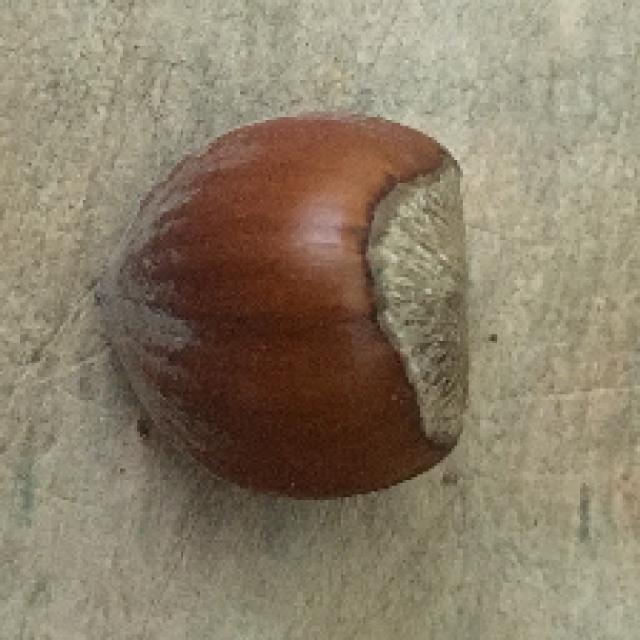qualityHazelnut: (97, 104, 475, 494)
